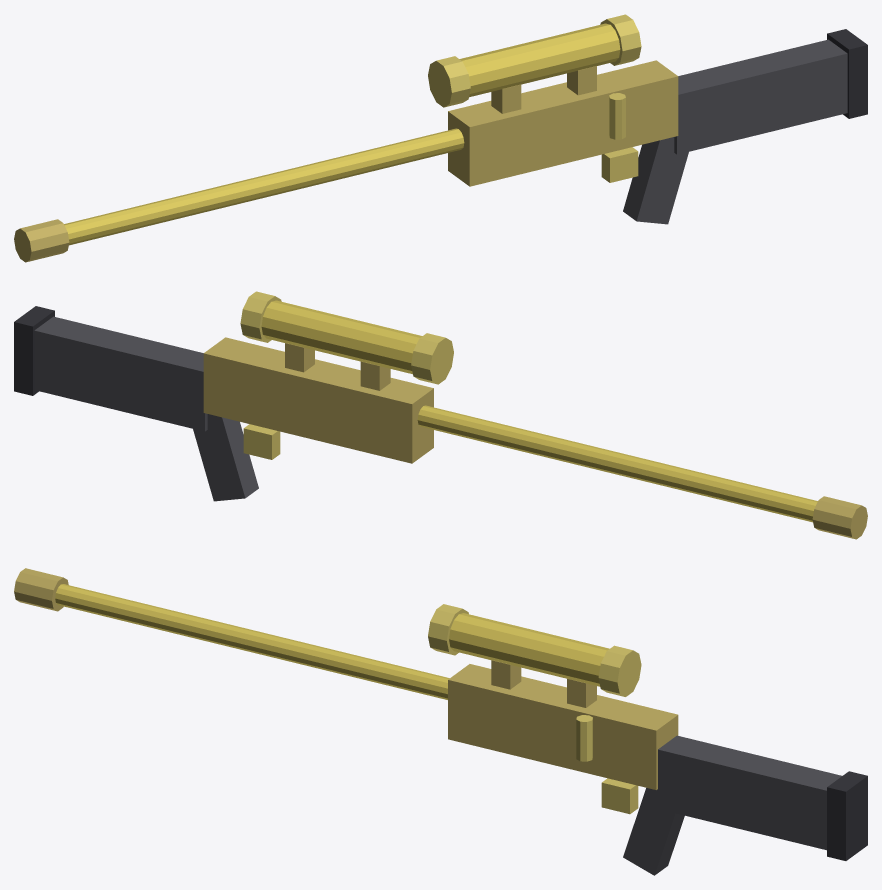
File: gunes_nisanci.glb
3 renders of one model, top to bottom at view 1: azimuth 30°, elevation 25°; view 2: azimuth 150°, elevation 25°; view 3: azimuth 330°, elevation 25°, orthographic.
Parts seen in each view (by area): view 1: geometry_0; view 2: geometry_0; view 3: geometry_0.
Part boxes in pixels (x1,y1,x2,y2): geometry_0: [14, 14, 867, 262]; geometry_0: [14, 291, 867, 539]; geometry_0: [14, 568, 867, 875].
Bounding box in the file's own units: 0.88 × 0.2118 × 0.06.
